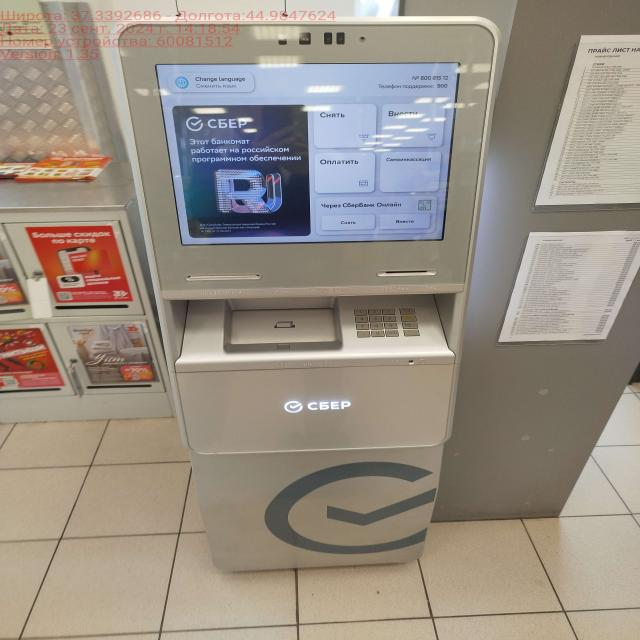bank: (113, 14, 495, 568)
